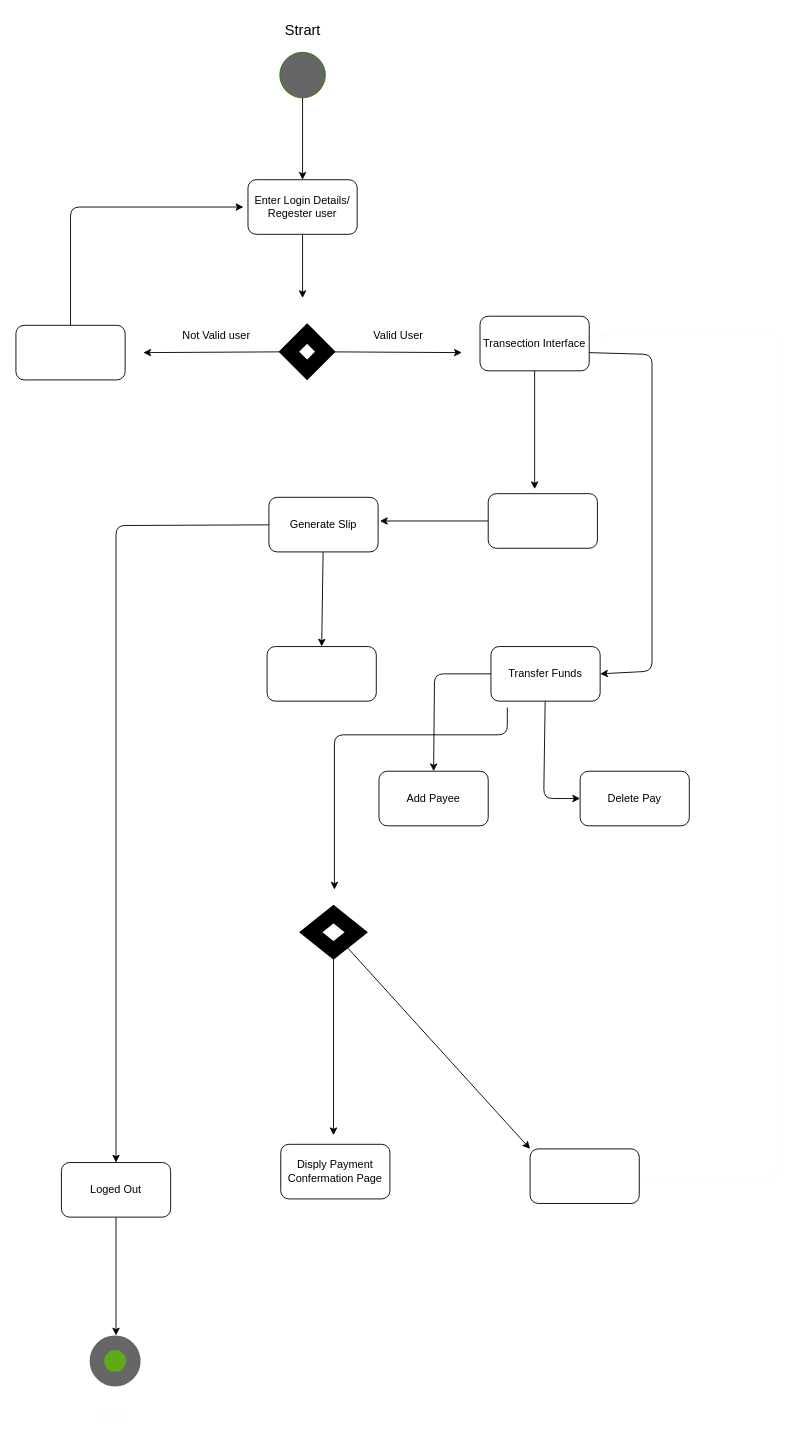
Image size: 804x1451. Some labels were removed from this diagram. The shapes that lost their labels are listed below. From the top down, each one's centre as x and y in pixels, then its label:
pixel 70 352: Regester / login
pixel 542 520: Deposit Money
pixel 321 673: Withdraw Money
pixel 584 1175: Make another transection
